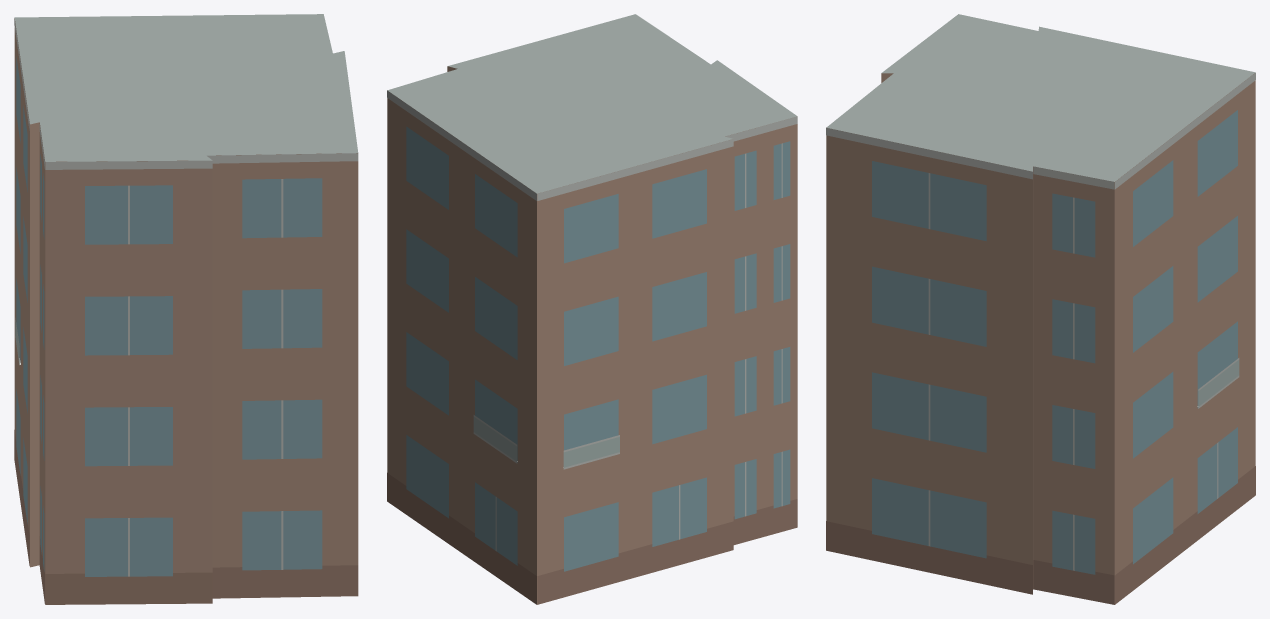
File: survey-upis-32487128.glb
The picture shows the model from 3 angles, left to right: view 1: azimuth 30°, elevation 25°; view 2: azimuth 150°, elevation 25°; view 3: azimuth 270°, elevation 25°; orthographic projection. The views are drawn at different scales.
Parts seen in each view (by area): view 1: survey-upis-32487128.tmp; view 2: survey-upis-32487128.tmp; view 3: survey-upis-32487128.tmp.
Part boxes in pixels (x1=…): survey-upis-32487128.tmp: x1=14, y1=14, x2=358, y2=604; survey-upis-32487128.tmp: x1=387, y1=14, x2=797, y2=604; survey-upis-32487128.tmp: x1=826, y1=14, x2=1255, y2=604.
Size of the model in its own units: 11.38 by 13.35 by 12.3.
